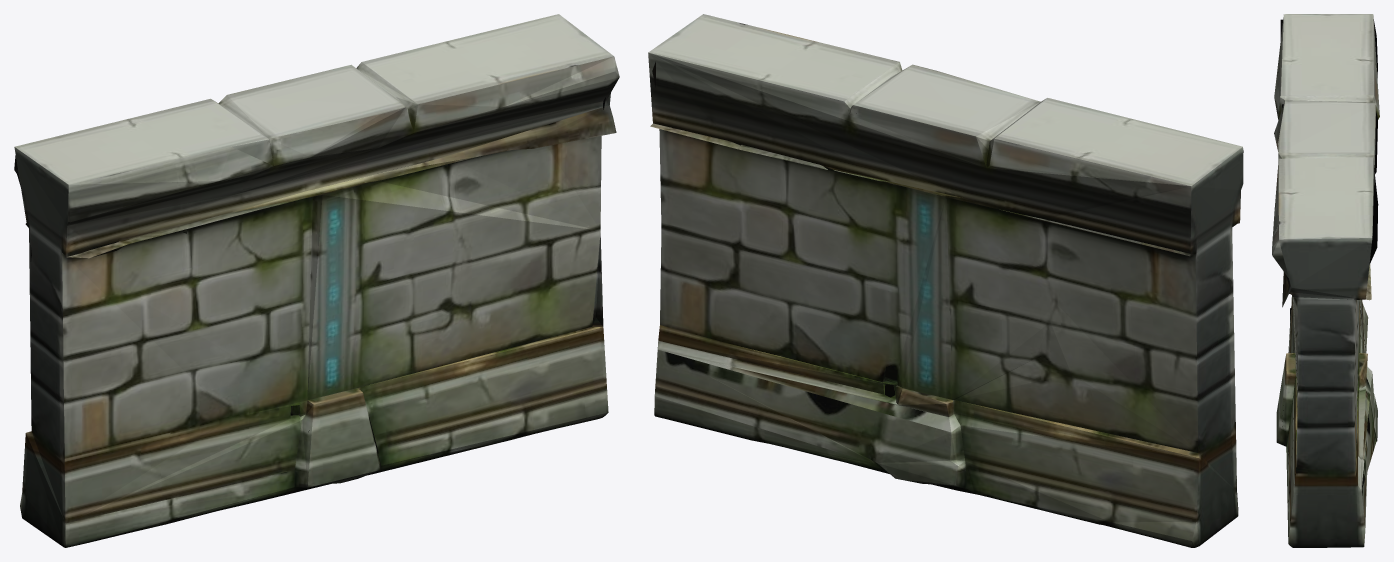
The model's file is wall_segment.glb.
3 renders of one model, left to right at view 1: azimuth 30°, elevation 25°; view 2: azimuth 150°, elevation 25°; view 3: azimuth 270°, elevation 25°, orthographic. The views are drawn at different scales.
Parts seen in each view (by area): view 1: world; view 2: world; view 3: world.
Boxes of the visible parts, <box> form: world: <box>14,14,619,547</box>; world: <box>648,14,1243,547</box>; world: <box>1272,14,1379,547</box>.
Bounding box in the file's own units: 0.9935 × 0.6352 × 0.2002.
Materials: 1 (1 with a texture image).
